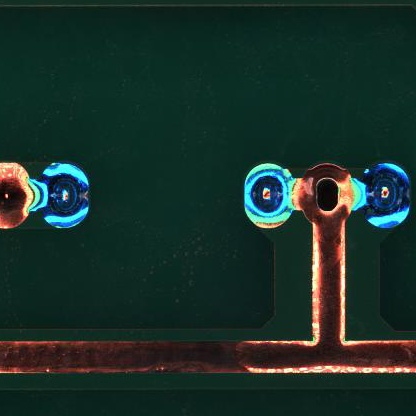spot: (35, 161, 91, 231), (243, 162, 291, 230), (363, 162, 411, 230)
